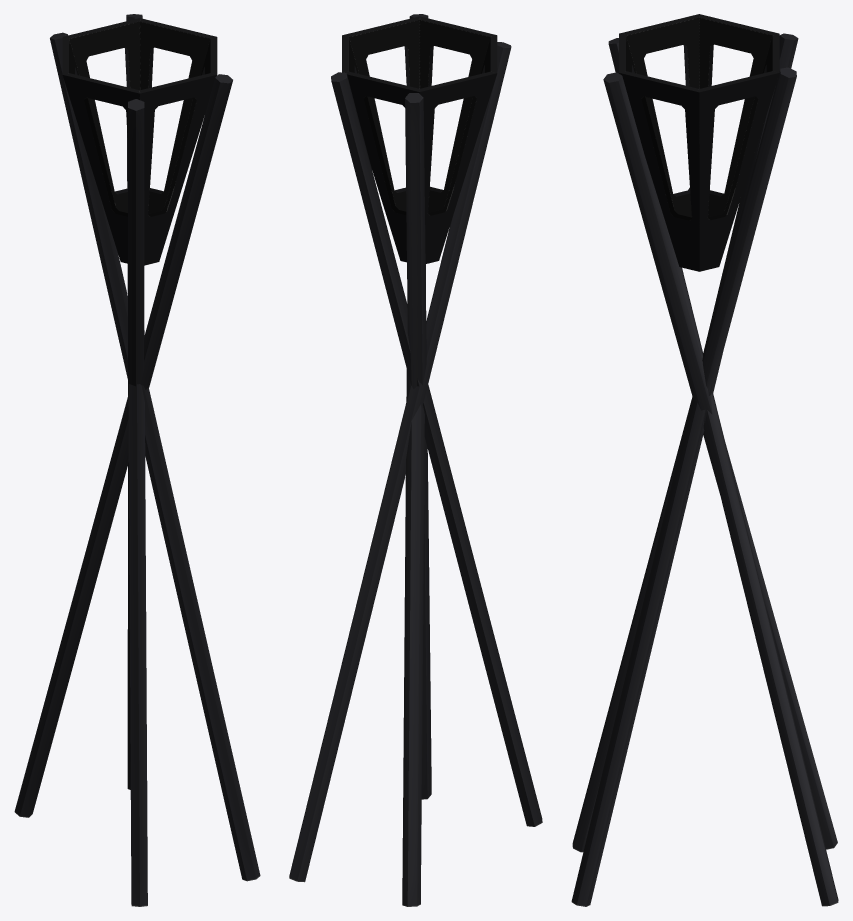
File: Placed_torch.fbx
The picture shows the model from 3 angles, left to right: view 1: azimuth 30°, elevation 25°; view 2: azimuth 150°, elevation 25°; view 3: azimuth 270°, elevation 25°; orthographic projection. The views are drawn at different scales.
Parts seen in each view (by area): view 1: stand, torch; view 2: stand, torch; view 3: stand, torch.
Boxes of the visible parts, x1=… form: stand: x1=14, y1=14, x2=260, y2=906; torch: x1=62, y1=18, x2=217, y2=265; stand: x1=289, y1=14, x2=542, y2=906; torch: x1=342, y1=16, x2=497, y2=263; stand: x1=571, y1=33, x2=838, y2=906; torch: x1=619, y1=14, x2=779, y2=271.
Size of the model in its own units: 5.03 by 24.72 by 7.24.
